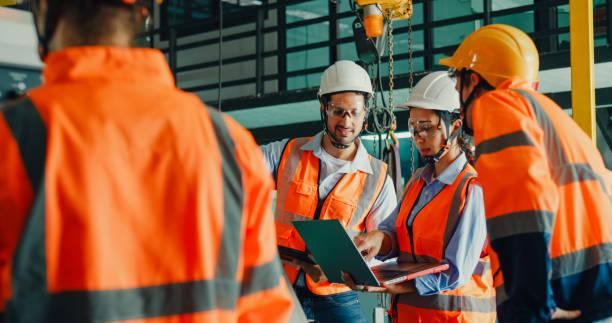capacete: (446, 22, 541, 94), (318, 56, 379, 100), (405, 75, 464, 113)
oculos de protecao: (321, 103, 372, 121)
pessoa: (459, 32, 612, 323), (266, 56, 399, 323), (402, 73, 485, 302)
uniforme seguranca: (475, 101, 612, 301), (403, 167, 491, 323)
unifr: (281, 134, 386, 290)
